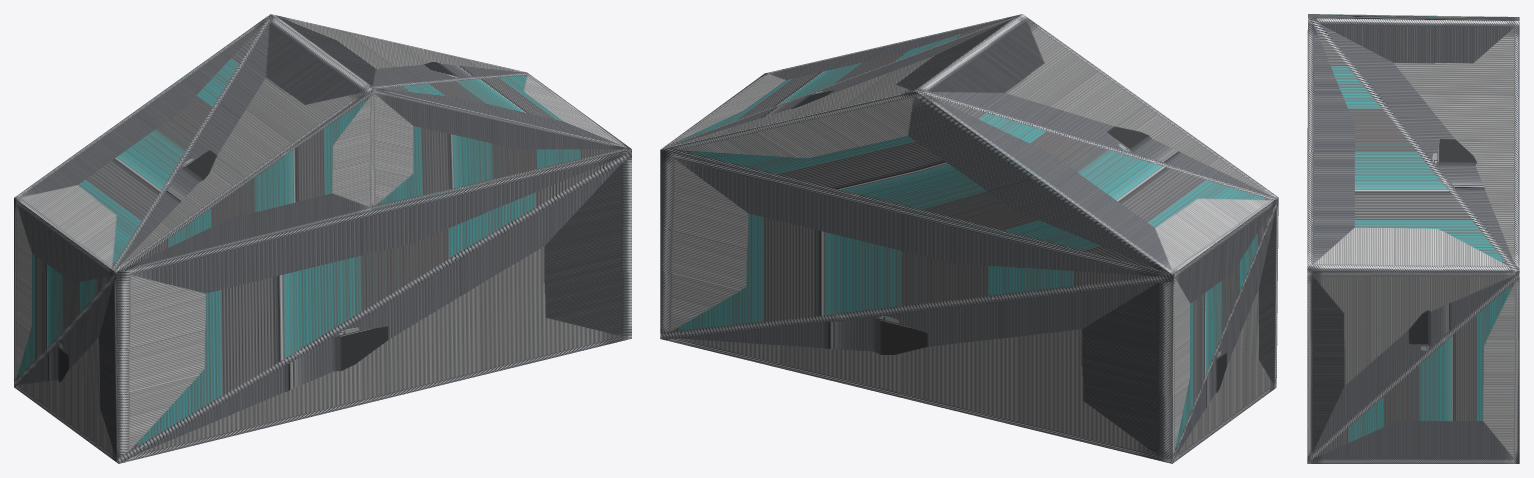
File: Trail_box(3x1)Top.fbx
The picture shows the model from 3 angles, left to right: view 1: azimuth 30°, elevation 25°; view 2: azimuth 150°, elevation 25°; view 3: azimuth 270°, elevation 25°; orthographic projection.
Parts seen in each view (by area): view 1: Cube; view 2: Cube; view 3: Cube.
Boxes of the visible parts, box(x1,y1,x2,y2) form: Cube: box(14, 14, 631, 463); Cube: box(660, 14, 1278, 463); Cube: box(1307, 14, 1519, 463).
Bounding box in the file's own units: 200 × 330 × 569.
